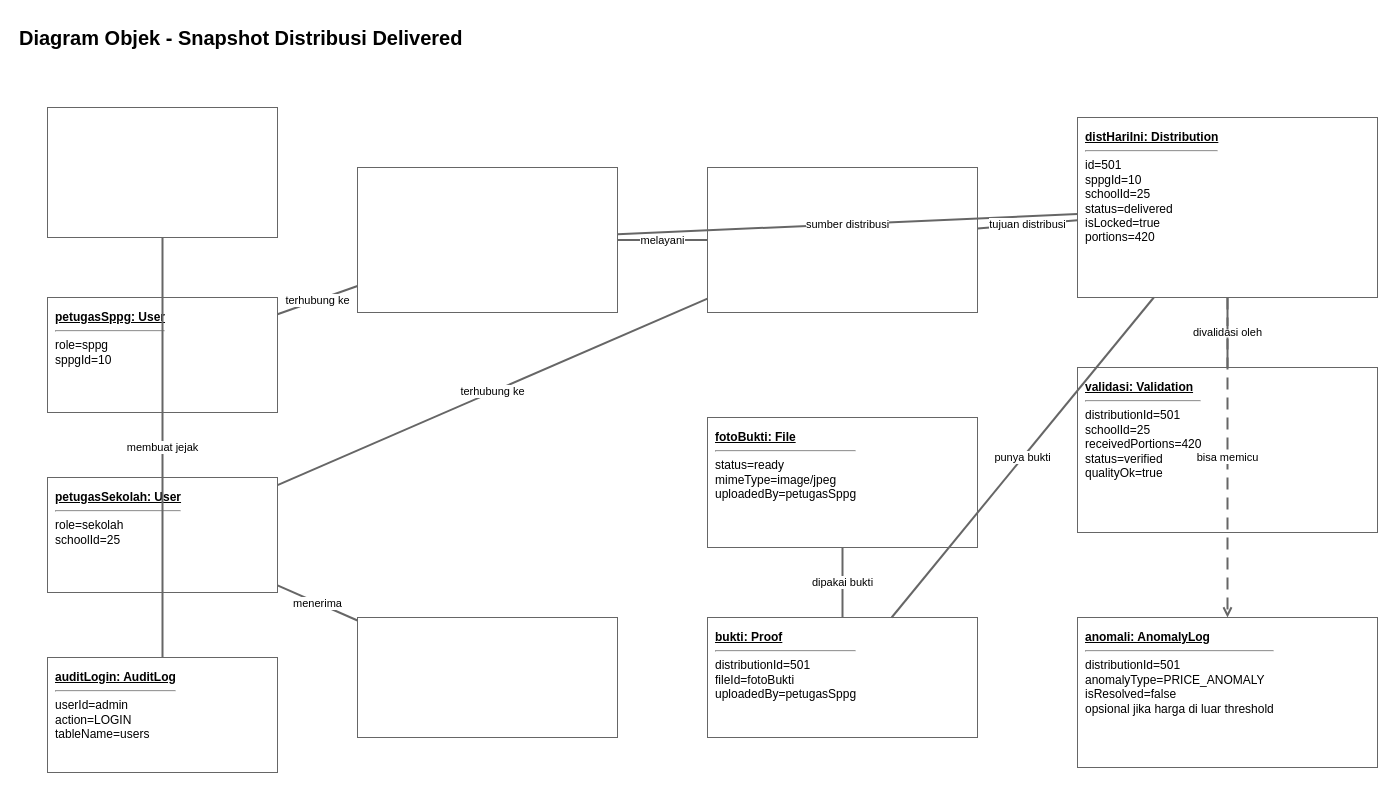
The diagram is 1395 pixels wide and 790 high, and some of its shapes have lost their labels. Here are the shapes that lost their labels. From the top down, the centre of each, then its label:
At point 162,172: "admin: User id=1 role=admin isActive=true".
At point 487,239: "sppgBandung: Sppg id=10 city=Kota Bandung capacity=1000 status=active".
At point 842,239: "sdContoh: School id=25 sppgId=10 city=Kota Bandung totalStudents=420".
At point 487,677: "notifSekolah: Notification userId=petugasSekolah type=distribution isRead=false".
